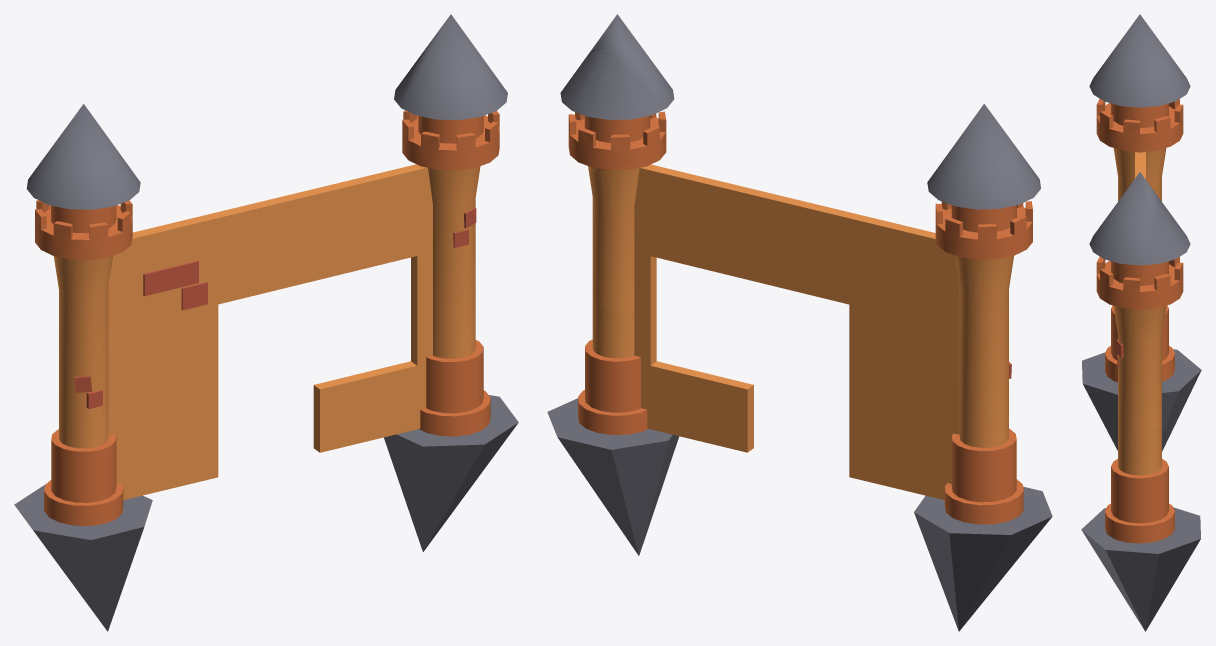
The model's file is RIGHTCastleFractured.fbx.
3 renders of one model, left to right at view 1: azimuth 30°, elevation 25°; view 2: azimuth 150°, elevation 25°; view 3: azimuth 270°, elevation 25°, orthographic. The views are drawn at different scales.
Parts seen in each view (by area): view 1: Cone.001, Cube.001, Cube.001_cell.003, Cone.001_cell; view 2: Cone.001, Cube.001, Cube.001_cell.001, Cone.001_cell.002, Cone.001_cell.005, Cube.001_cell.007, Cube.001_cell.002, Cone.001_cell; view 3: Cone.001, Cone.001_cell.002, Cone.001_cell.005, Cone.001_cell, Cube.001.
Part boxes in pixels (left/top/right/bottom): Cone.001: left=14, top=14, right=518, bottom=631; Cube.001: left=108, top=167, right=432, bottom=499; Cube.001_cell.003: left=322, top=362, right=426, bottom=452; Cone.001_cell: left=399, top=15, right=493, bottom=150; Cone.001: left=547, top=15, right=1052, bottom=631; Cube.001: left=634, top=184, right=959, bottom=499; Cube.001_cell.001: left=659, top=182, right=796, bottom=291; Cone.001_cell.002: left=560, top=50, right=662, bottom=172; Cone.001_cell.005: left=589, top=144, right=659, bottom=311; Cube.001_cell.007: left=634, top=164, right=724, bottom=286; Cube.001_cell.002: left=634, top=300, right=745, bottom=432; Cone.001_cell: left=575, top=14, right=666, bottom=143; Cone.001: left=1081, top=14, right=1201, bottom=631; Cone.001_cell.002: left=1130, top=197, right=1190, bottom=320; Cone.001_cell.005: left=1120, top=306, right=1166, bottom=431; Cone.001_cell: left=1096, top=172, right=1157, bottom=314; Cube.001: left=1135, top=152, right=1145, bottom=179.
Bounding box in the file's own units: 447 × 470 × 109.
